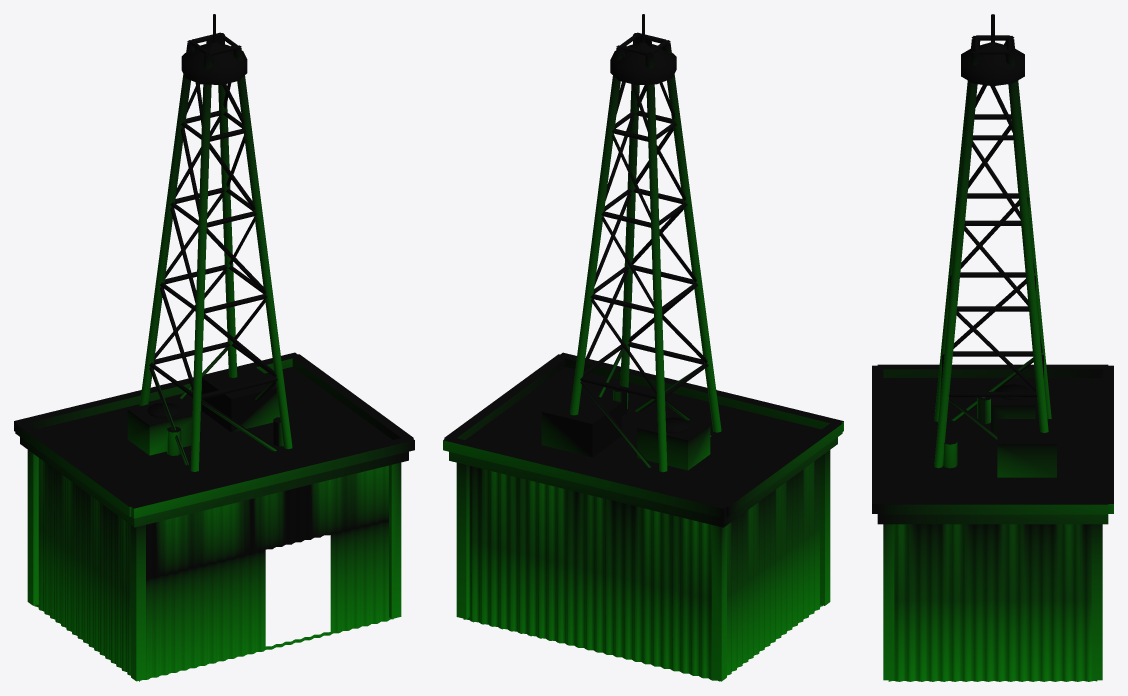
File: relaystation.glb
3 views of the same model, side by side, from view 1: azimuth 30°, elevation 25°; view 2: azimuth 150°, elevation 25°; view 3: azimuth 270°, elevation 25° (orthographic).
Parts seen in each view (by area): view 1: lod0; view 2: lod0; view 3: lod0.
Part boxes in pixels (x1,y1,x2,y2): lod0: [14, 14, 414, 681]; lod0: [443, 14, 843, 681]; lod0: [872, 14, 1113, 681].
Size of what is drawn, in the model's own units: 8.9 by 17.9 by 6.5.
